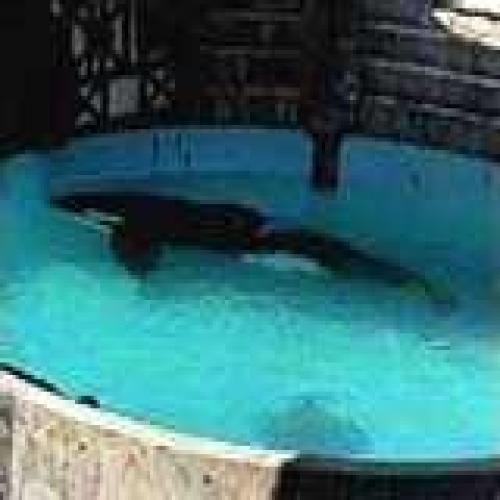killer_whale-endangered: (43, 164, 437, 312)
